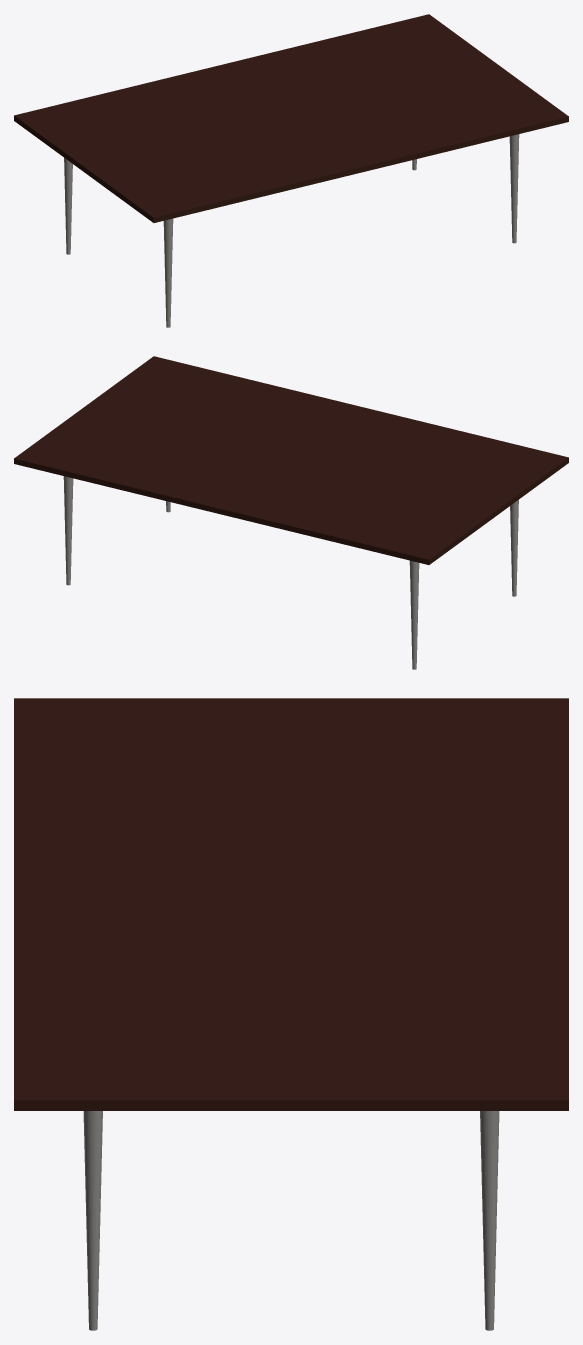
The model's file is stol (1).fbx.
3 views of the same model, one above another, from view 1: azimuth 30°, elevation 25°; view 2: azimuth 150°, elevation 25°; view 3: azimuth 270°, elevation 25° (orthographic). The views are drawn at different scales.
Visible parts, largest first — view 1: Plane, Plane.006; view 2: Plane, Plane.006; view 3: Plane, Plane.006.
Part boxes in pixels (x1,y1,x2,y2): Plane: (14,14,568,222); Plane.006: (64,134,519,327); Plane: (14,356,568,564); Plane.006: (63,476,518,669); Plane: (14,698,568,1110); Plane.006: (83,1111,499,1330).
Size of the model in its own units: 2.4 by 1.4 by 0.73.
